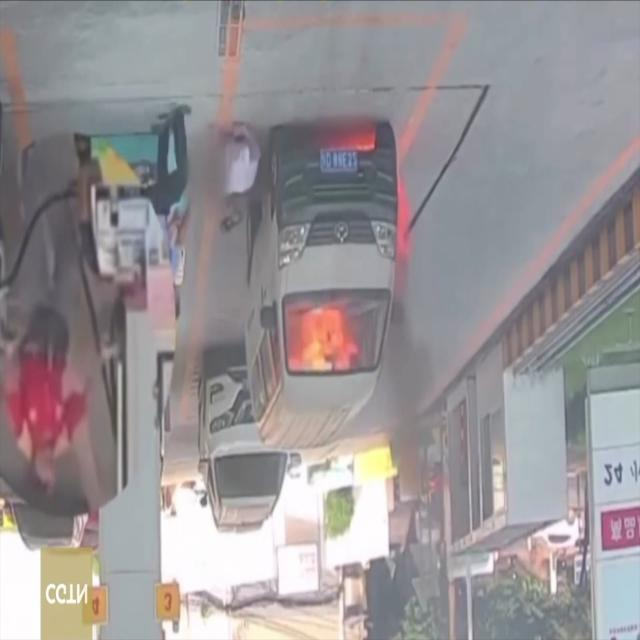fire: (284, 300, 360, 372), (314, 125, 384, 156), (394, 171, 412, 277)
